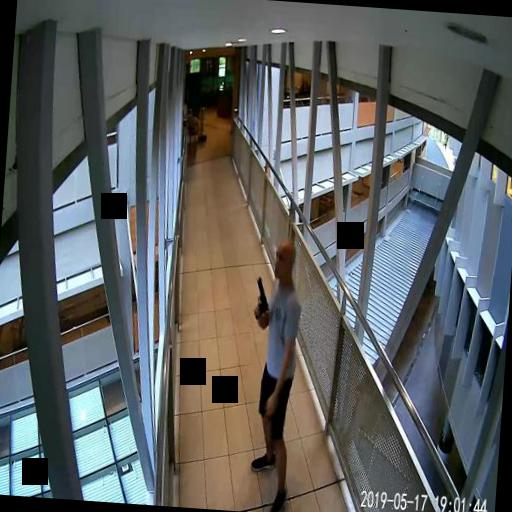Handgun: (252, 277, 270, 319)
